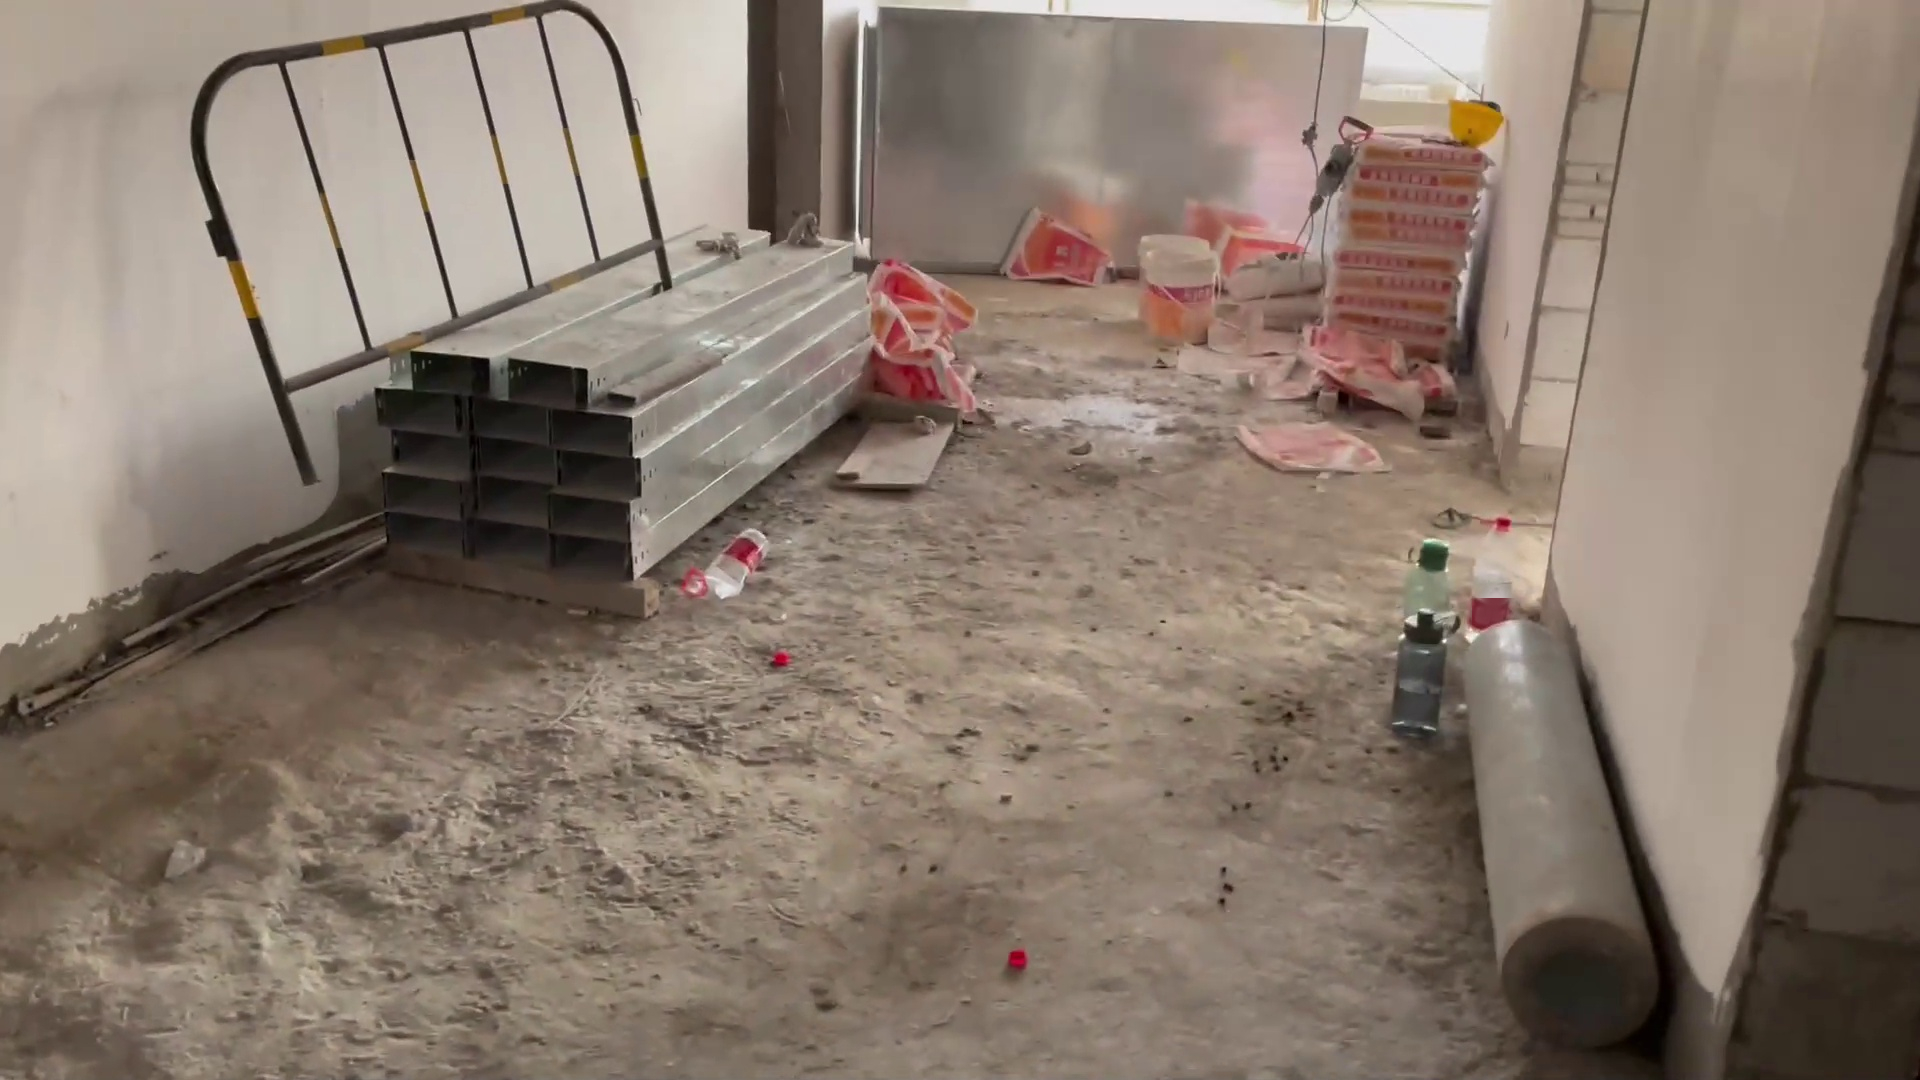fence: (196, 7, 669, 367)
helmet: (1452, 82, 1507, 150)
